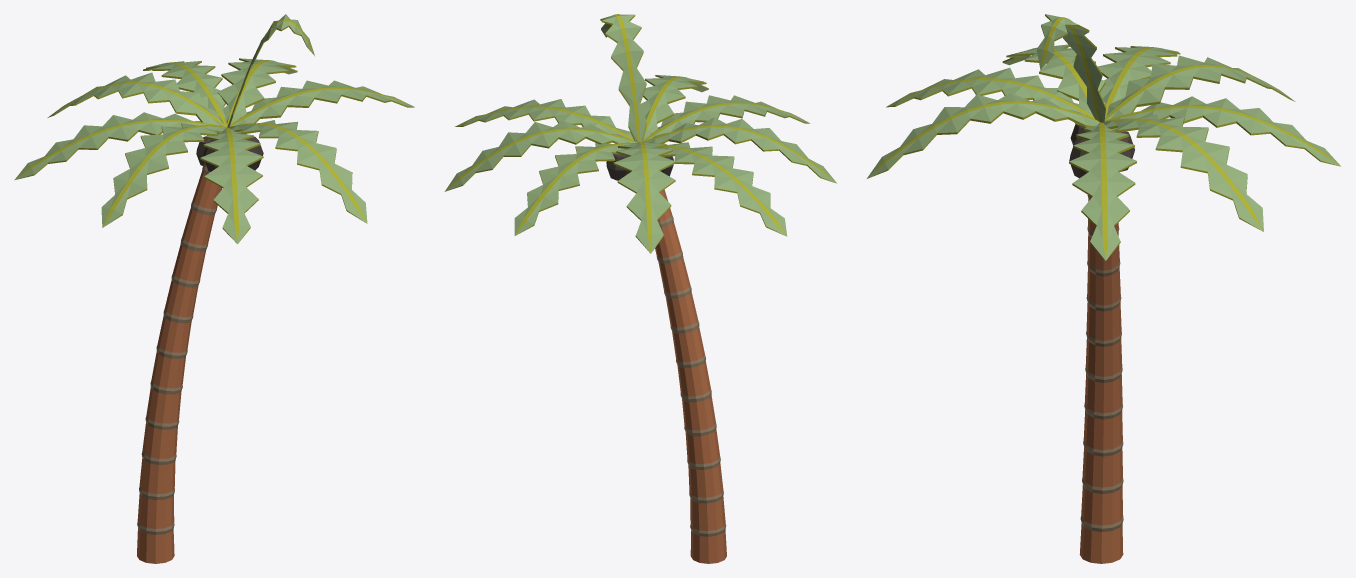
The model's file is palmTree.glb.
3 views of the same model, side by side, from view 1: azimuth 30°, elevation 25°; view 2: azimuth 150°, elevation 25°; view 3: azimuth 270°, elevation 25° (orthographic). The views are drawn at different scales.
Parts seen in each view (by area): view 1: palmTree; view 2: palmTree; view 3: palmTree.
Boxes of the visible parts, x1,y1,x2,y2 form: palmTree: [14, 14, 414, 563]; palmTree: [444, 14, 836, 563]; palmTree: [867, 14, 1340, 563].
Bounding box in the file's own units: 4.8 × 6.4 × 4.6.
1 material, 1 textured.
